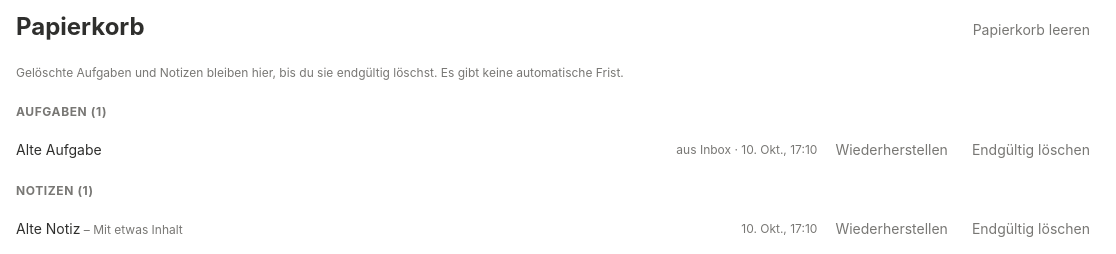
Test case: TrashView › löscht einzelne Einträge erst nach Bestätigung endgültig
Click the button with aria-label "Alte Aufgabe endgültig löschen" at [1031, 149], box [966,138,1096,160]
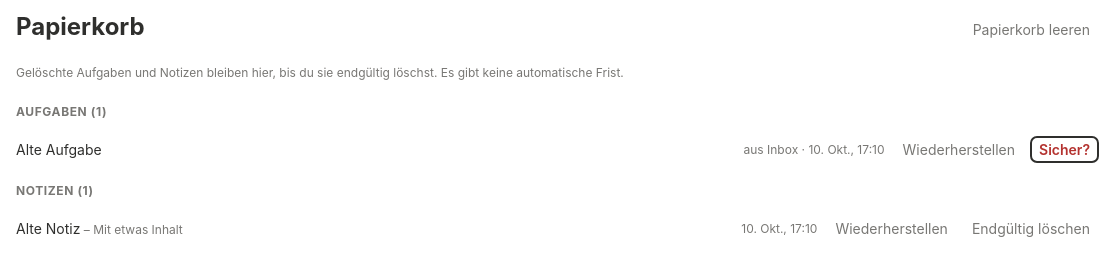
Click the button with aria-label "Alte Aufgabe endgültig löschen Sicher?" at [1064, 149], box [1033,138,1096,160]
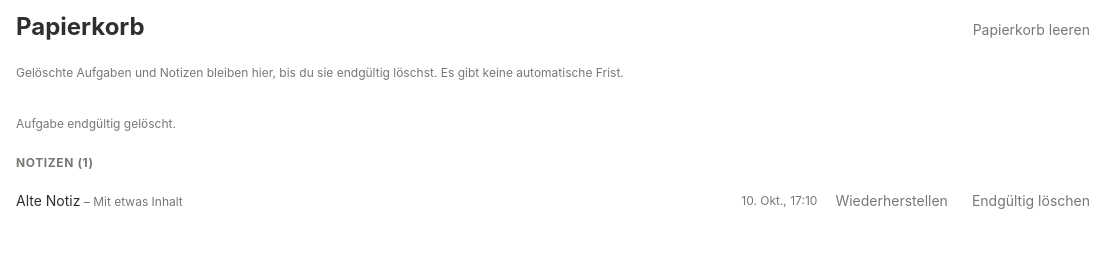
Expected: the text "Aufgabe endgültig gelöscht." is shown, [16,116,176,131]
